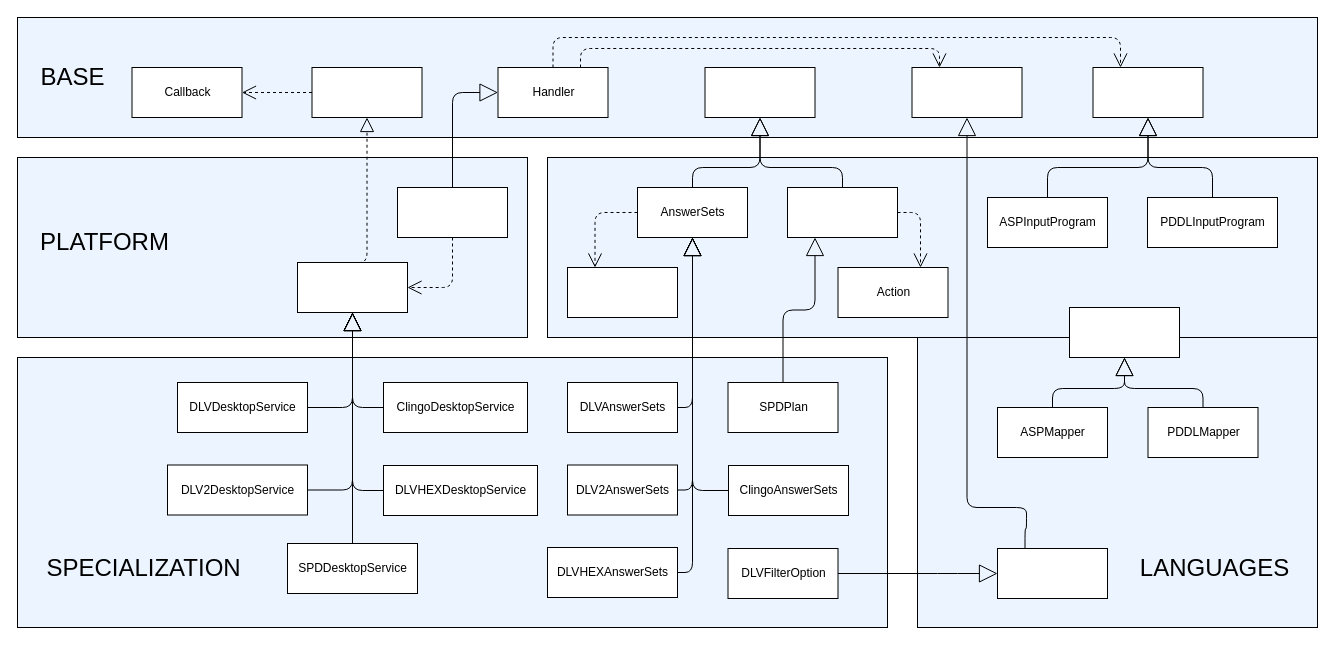
This 1335x645 diagram has some shape labels left out. The shapes that lost their labels are listed below. From the top down, each one's centre as x and y in pixels, then its label:
At [366,92]: "Service".
At [759,92]: "Output".
At [966,92]: "OptionDescriptor".
At [1147,92]: "InputProgram".
At [452,212]: "DesktopHandler".
At [842,212]: "Plan".
At [352,287]: "DesktopService".
At [622,292]: "AnswerSet".
At [1124,332]: "Mapper".
At [1052,573]: "ASPFilterOption".
